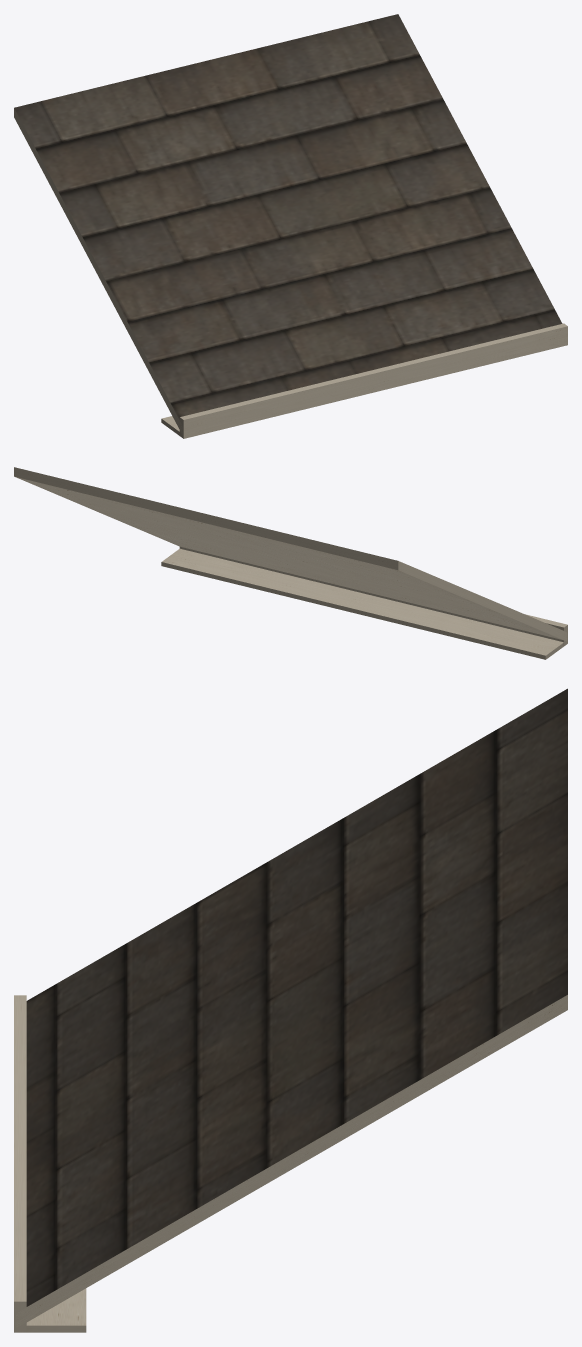
File: house_roof_slope.glb
The picture shows the model from 3 angles, top to bottom: view 1: azimuth 30°, elevation 25°; view 2: azimuth 150°, elevation 25°; view 3: azimuth 270°, elevation 25°; orthographic projection. The views are drawn at different scales.
Parts seen in each view (by area): view 1: outdoor_house_roof_slope; view 2: outdoor_house_roof_slope; view 3: outdoor_house_roof_slope.
Part boxes in pixels (<box>): outdoor_house_roof_slope: <box>14,14,567,438</box>; outdoor_house_roof_slope: <box>14,467,567,659</box>; outdoor_house_roof_slope: <box>14,688,567,1332</box>.
Size of the model in its own units: 3.4 by 1.75 by 2.6.
2 materials, 2 textured.
